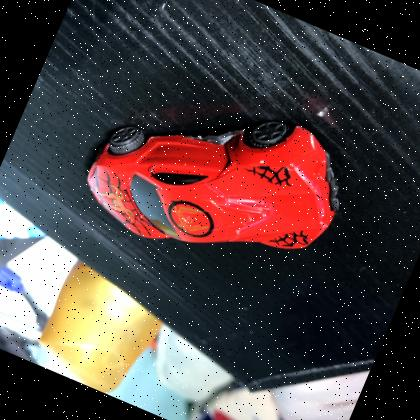Car: (64, 49, 370, 314)
